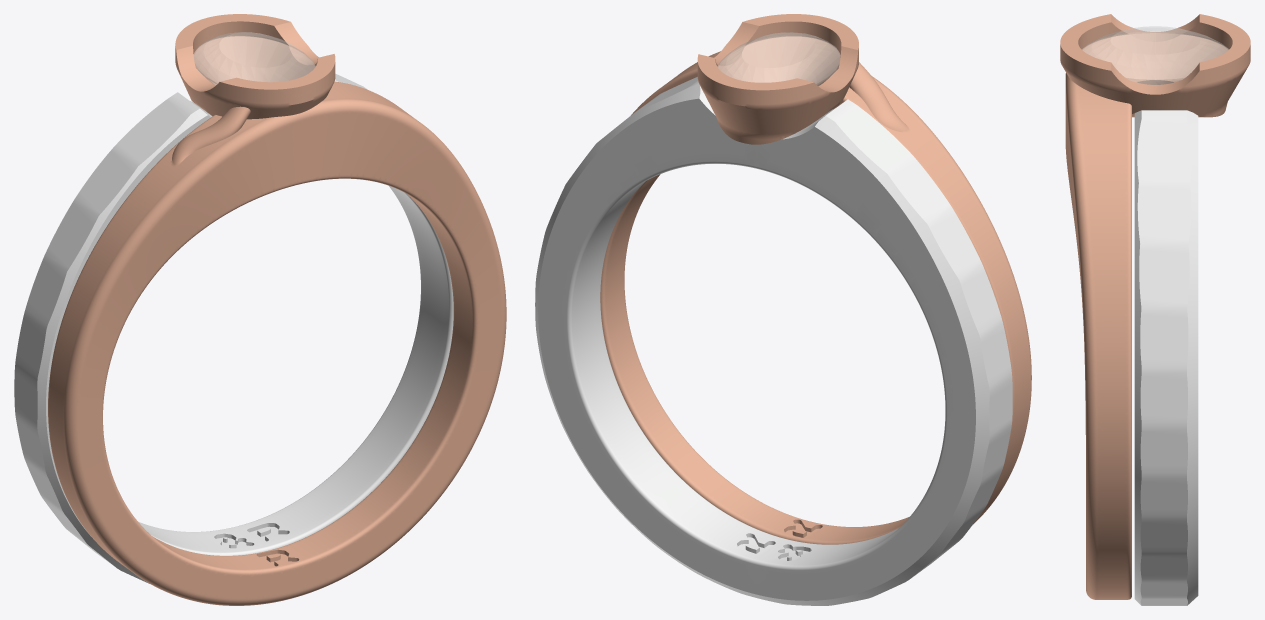
Rendered from Assembly.glb.
3 views of the same model, side by side, from view 1: azimuth 30°, elevation 25°; view 2: azimuth 150°, elevation 25°; view 3: azimuth 270°, elevation 25° (orthographic).
Parts seen in each view (by area): view 1: A_Rose, B_White, Oval; view 2: B_White, A_Rose, Oval; view 3: A_Rose, B_White, Oval.
Part boxes in pixels (x1=…): A_Rose: x1=48, y1=14, x2=506, y2=605; B_White: x1=14, y1=73, x2=453, y2=583; Oval: x1=194, y1=32, x2=315, y2=85; B_White: x1=535, y1=77, x2=1012, y2=605; A_Rose: x1=600, y1=14, x2=1031, y2=544; Oval: x1=718, y1=32, x2=839, y2=85; A_Rose: x1=1060, y1=14, x2=1250, y2=599; B_White: x1=1134, y1=110, x2=1198, y2=605; Oval: x1=1082, y1=26, x2=1228, y2=84.
Size of the model in its own units: 0.0206 by 0.0233 by 0.00746.
